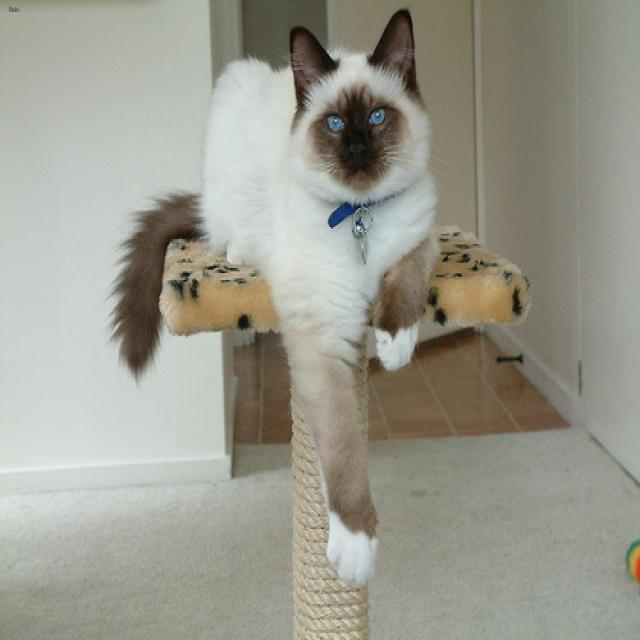Birman: (288, 9, 428, 200)
